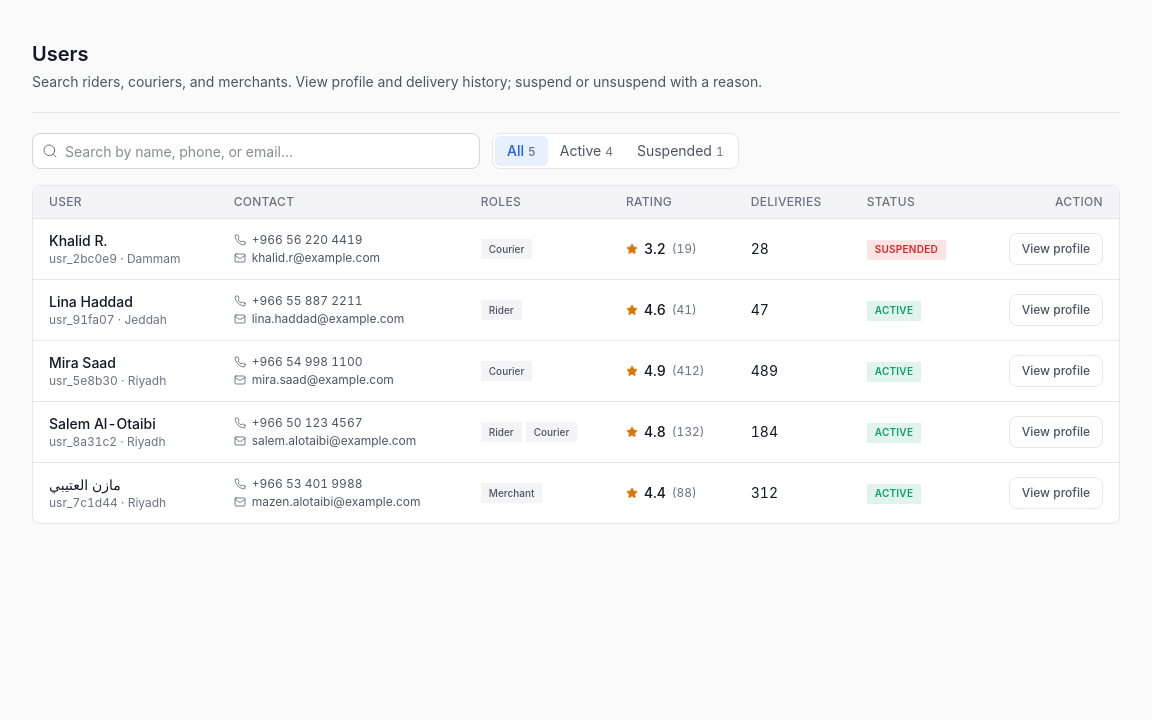
Test: <UsersAdminPage /> › suspends an active user with a reason and note, then unsuspends
Click the button named "view profile for lina haddad".
click(1056, 310)  # box [1009,294,1103,326]
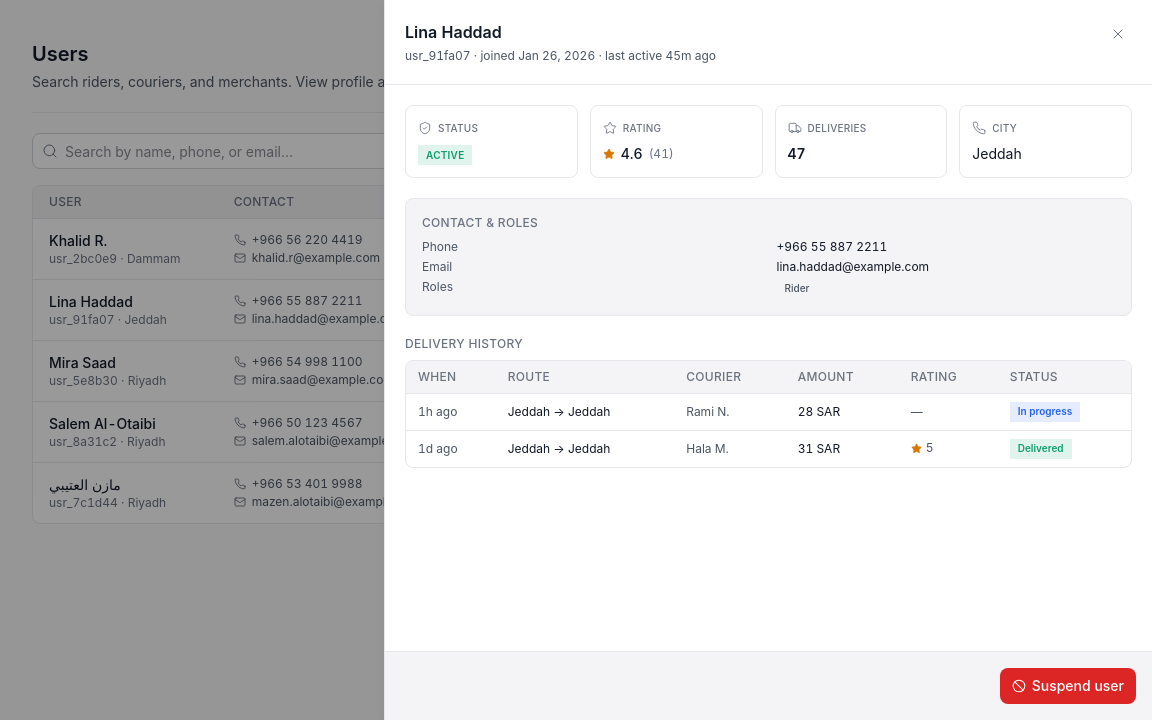
Click the button "Suspend user".
click(1068, 686)  # box [1000,668,1136,704]
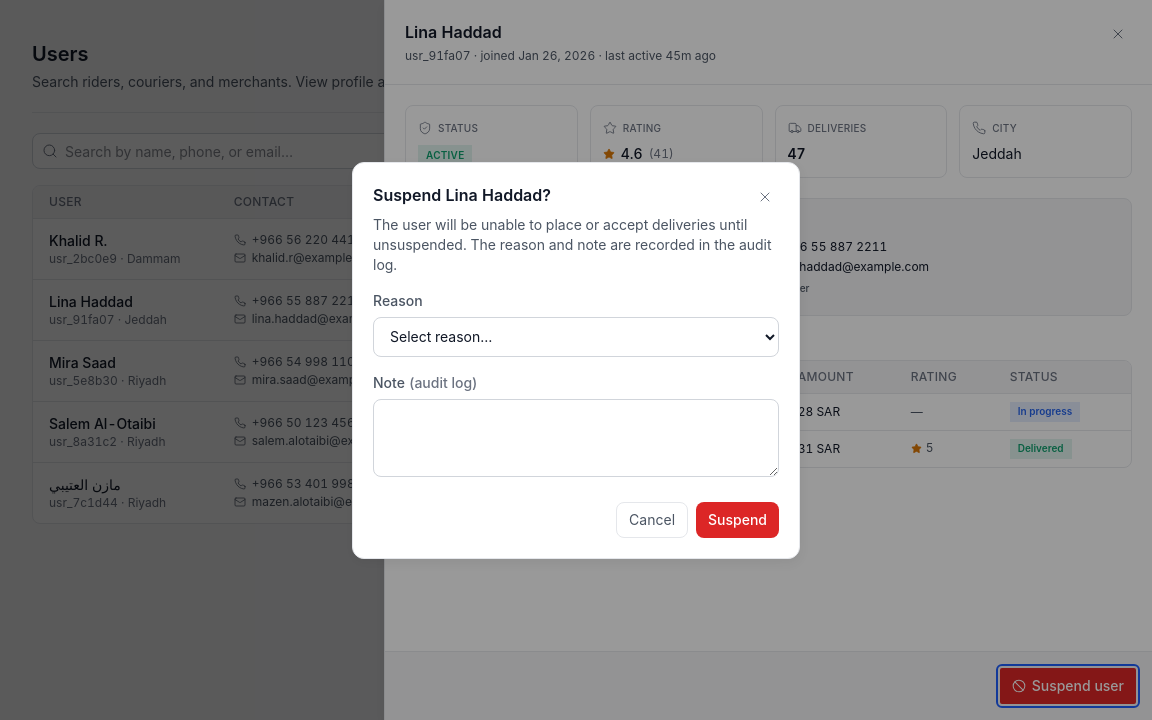
Note: Validation: empty reason + note should block submission and show errors.
Click the button "Suspend".
click(738, 520)  # box [696,502,779,538]
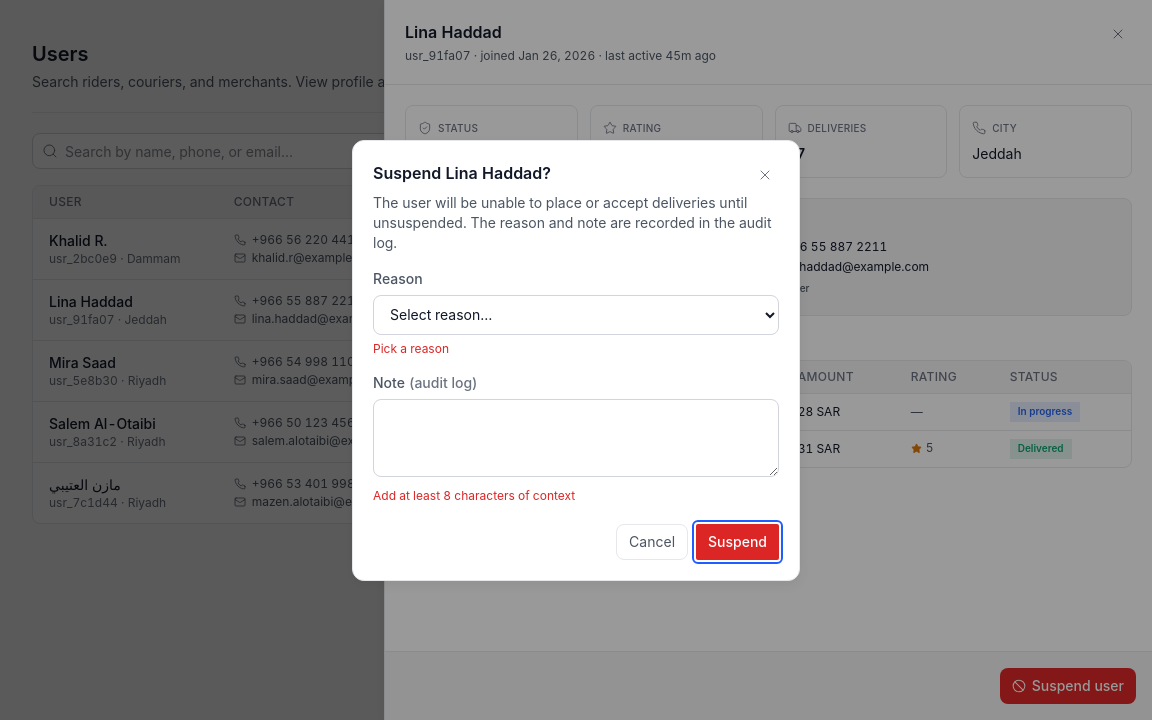
Check: the message "Pick a reason" is shown, box [373,340,449,356]
Select "Policy violation" in the dropdown labelled "Reason" at (576, 314), box [373,294,779,334]
Type "Repeated abusive messages to courier." into the text box labelled "Note(audit log)".
click(576, 438); type("Repeated abusive messages to courier.")  # box [373,398,779,476]
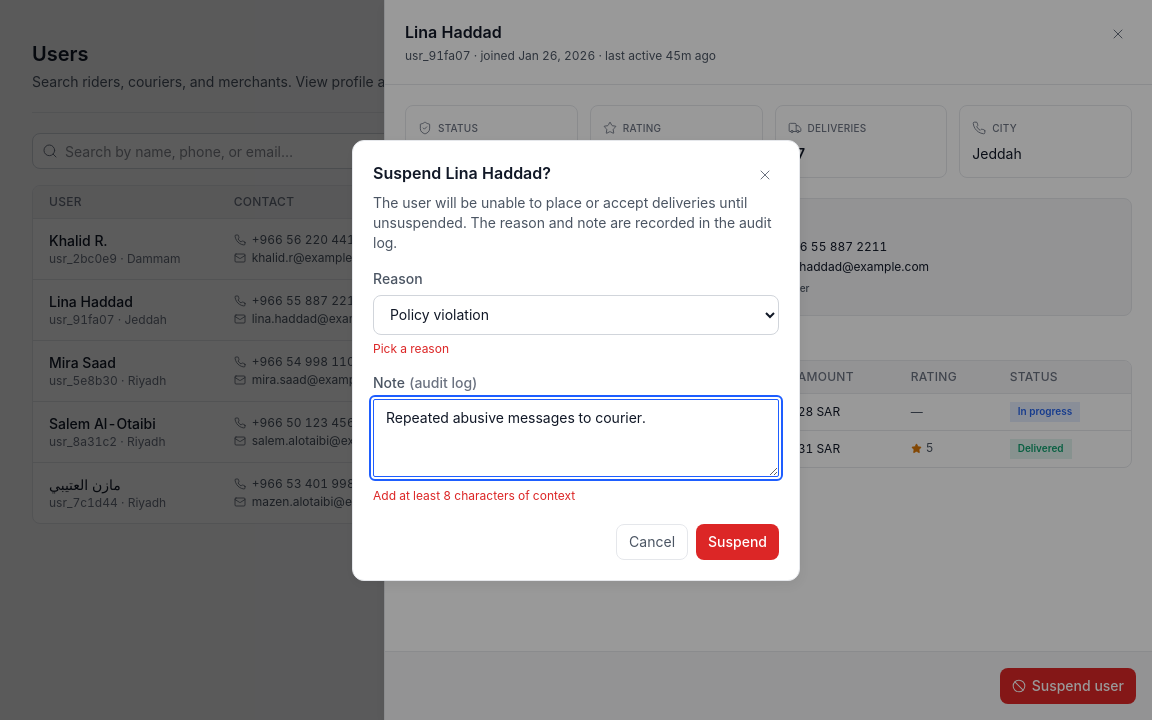
Click the button "Suspend".
click(738, 542)  # box [696,524,779,560]
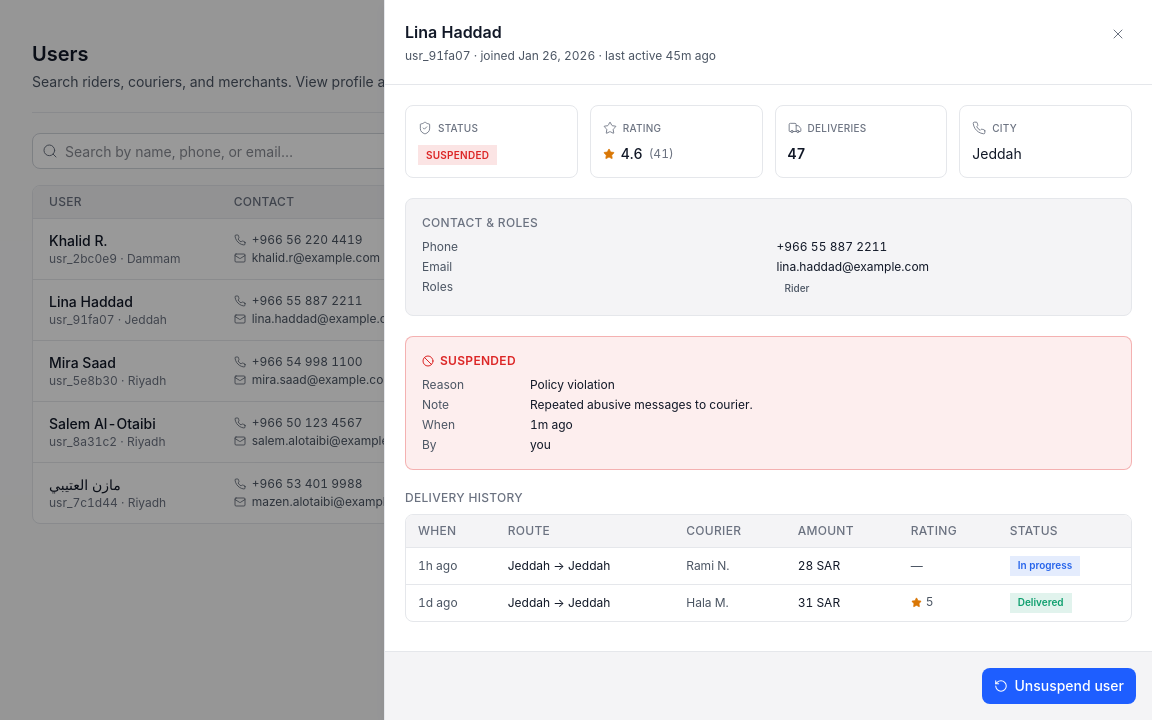
Check: the heading "Suspend Lina Haddad" is gone
Check: the text "Suspended" is shown, box [418,145,497,165]
Check: the text "Repeated abusive messages to courier." is shown, box [530,397,753,413]
Note: Unsuspend round-trip.
Click the button "Unsuspend user".
click(1059, 686)  # box [982,668,1136,704]
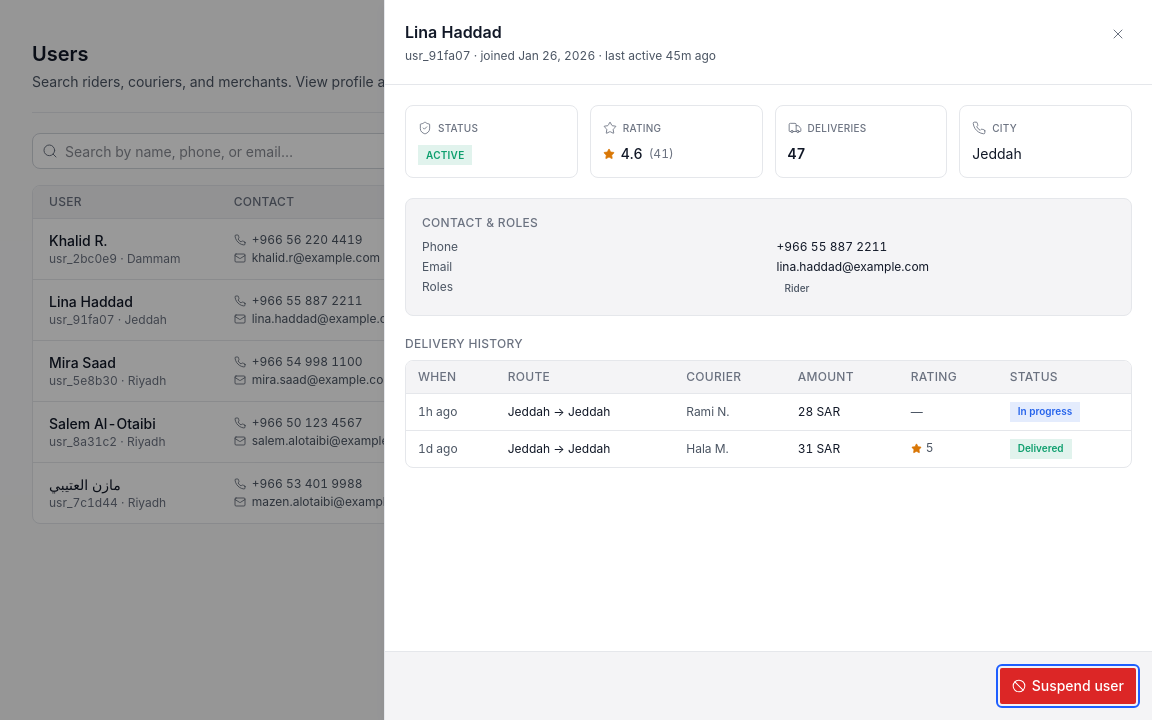
Check: the button "Suspend user" is shown, box [1000,668,1136,704]
Check: the text "Active" is shown, box [418,145,472,165]
